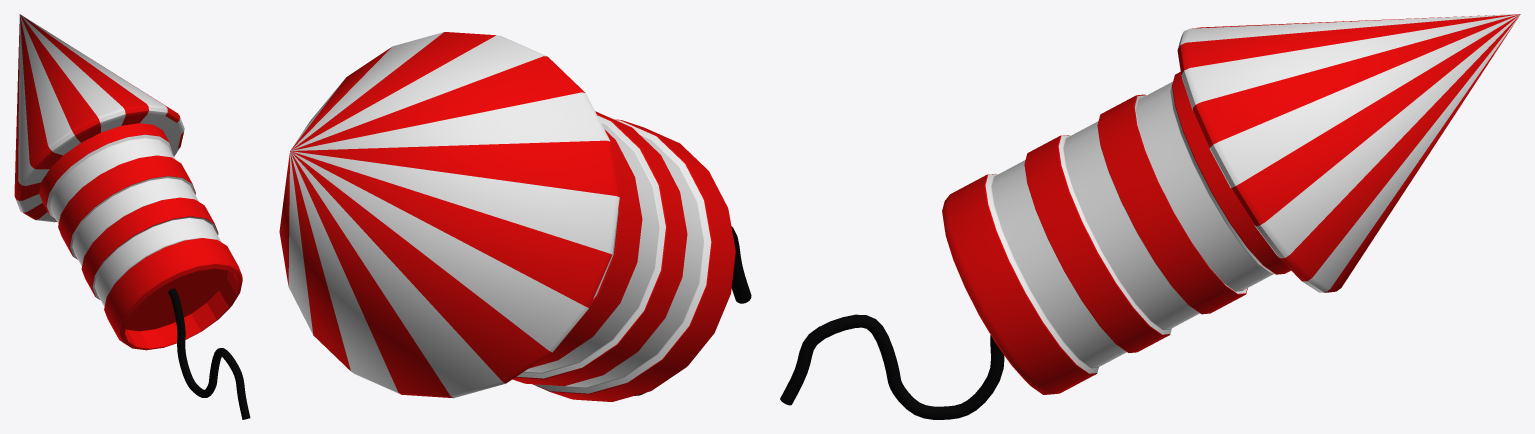
Rendered from feu_artifice.fbx.
3 views of the same model, side by side, from view 1: azimuth 30°, elevation 25°; view 2: azimuth 150°, elevation 25°; view 3: azimuth 270°, elevation 25° (orthographic). The views are drawn at different scales.
Visible parts, largest first — view 1: pCylinder6; view 2: pCylinder6; view 3: pCylinder6.
Part boxes in pixels (bbox=[...]): pCylinder6: bbox=[14, 14, 250, 419]; pCylinder6: bbox=[279, 32, 751, 401]; pCylinder6: bbox=[780, 14, 1520, 419].
Bounding box in the file's own units: 1.59 × 2.35 × 3.89.
